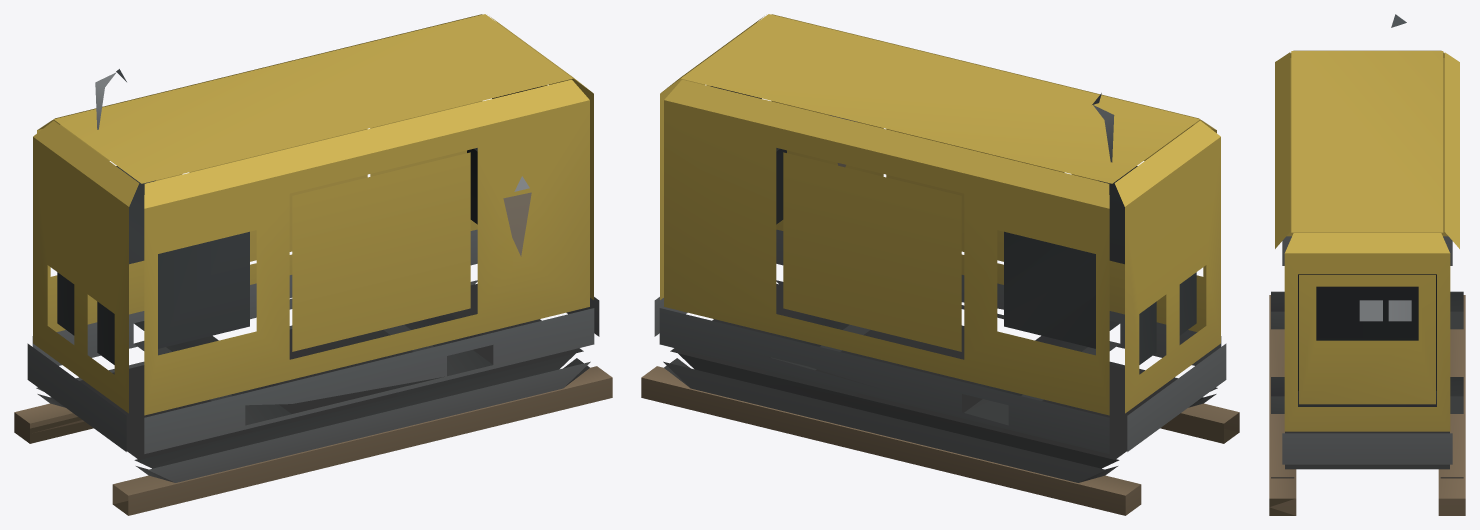
Rendered from genset.lod.glb.
3 views of the same model, side by side, from view 1: azimuth 30°, elevation 25°; view 2: azimuth 150°, elevation 25°; view 3: azimuth 270°, elevation 25° (orthographic). The views are drawn at different scales.
Visible parts, largest first — view 1: genset; view 2: genset; view 3: genset.
Part boxes in pixels (bbox=[...]): genset: bbox=[14, 14, 612, 515]; genset: bbox=[641, 14, 1239, 515]; genset: bbox=[1269, 14, 1465, 515].
Bounding box in the file's own units: 2.5 × 1.86 × 1.02.
